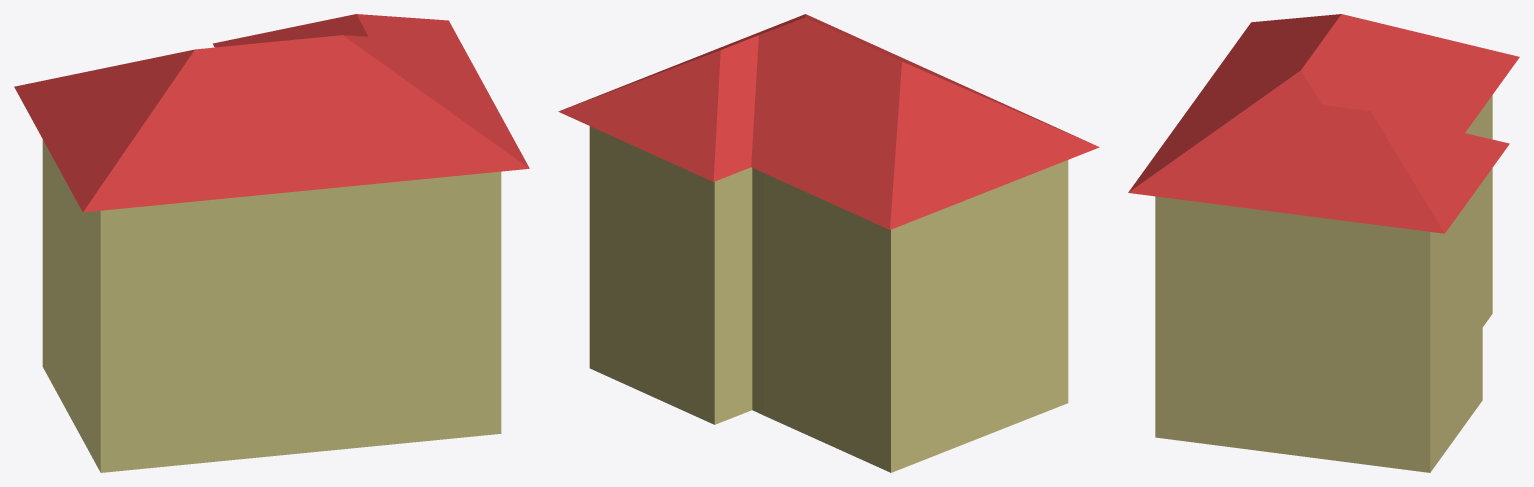
3 views of the same model, side by side, from view 1: azimuth 30°, elevation 25°; view 2: azimuth 150°, elevation 25°; view 3: azimuth 270°, elevation 25° (orthographic). The views are drawn at different scales.
Parts seen in each view (by area): view 1: group_5, group_3, group_4; view 2: group_5, group_3, group_4; view 3: group_5, group_3, group_4.
Part boxes in pixels (x1,y1,x2,y2): group_5: (42, 139, 501, 472); group_3: (14, 14, 529, 211); group_4: (83, 19, 529, 212); group_5: (589, 126, 1068, 472); group_3: (590, 14, 1099, 229); group_4: (558, 14, 1095, 181); group_5: (1155, 95, 1492, 472); group_3: (1129, 14, 1519, 233); group_4: (1128, 21, 1509, 233).
Size of the model in its own units: 17.07 by 13.36 by 12.47.
